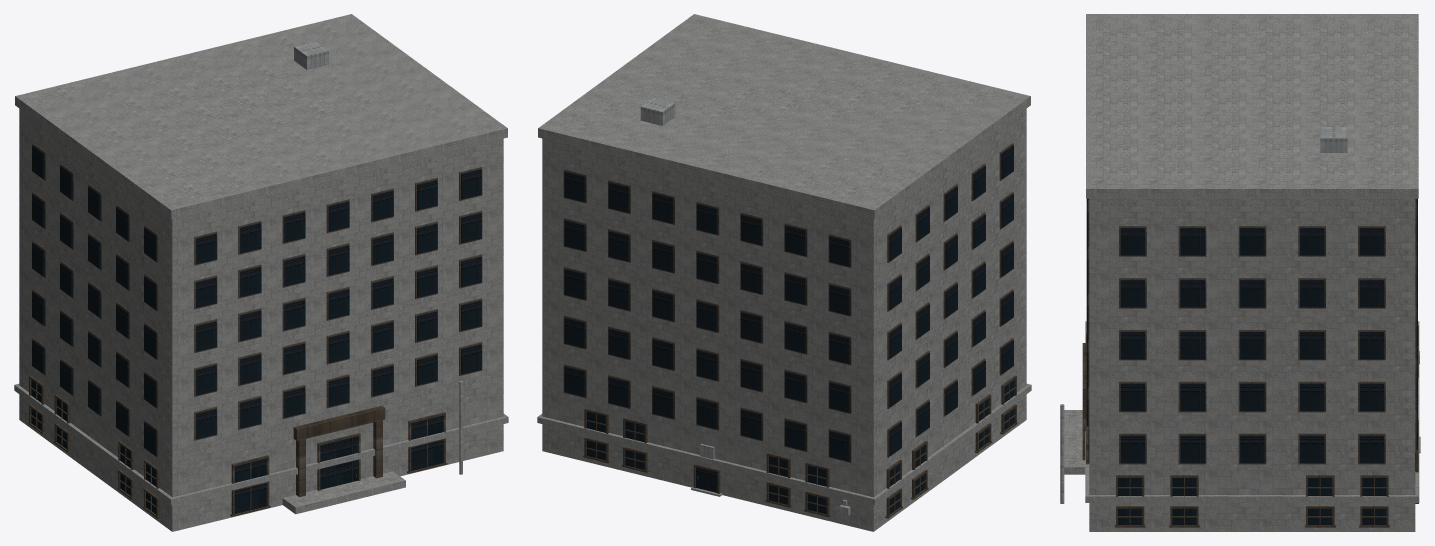
The model's file is ironport-savings-bank_lod0.gltf.
The picture shows the model from 3 angles, left to right: view 1: azimuth 30°, elevation 25°; view 2: azimuth 150°, elevation 25°; view 3: azimuth 270°, elevation 25°; orthographic projection. The views are drawn at different scales.
Visible parts, largest first — view 1: ironport-savings-bank_main, ironport-savings-bank__cornice, ironport-savings-bank_fen_07-glass-curtain-blue_1_t, ironport-savings-bank_fen_12-bronze-metal_0, ironport-savings-bank__trim_band, ironport-savings-bank__steps, ironport-savings-bank__surround_lintel, ironport-savings-bank__vent; view 2: ironport-savings-bank_main, ironport-savings-bank__cornice, ironport-savings-bank_fen_07-glass-curtain-blue_1_t, ironport-savings-bank_fen_12-bronze-metal_0, ironport-savings-bank__trim_band, ironport-savings-bank__vent; view 3: ironport-savings-bank_main, ironport-savings-bank_fen_07-glass-curtain-blue_1_t, ironport-savings-bank_fen_12-bronze-metal_0, ironport-savings-bank__cornice, ironport-savings-bank__trim_band, ironport-savings-bank__steps, ironport-savings-bank__vent, ironport-savings-bank__flag.
Part boxes in pixels (box(x1,y1,x2,y2)): ironport-savings-bank_main: box(19, 16, 503, 531); ironport-savings-bank__cornice: box(15, 14, 507, 219); ironport-savings-bank_fen_07-glass-curtain-blue_1_t: box(31, 145, 481, 514); ironport-savings-bank_fen_12-bronze-metal_0: box(28, 143, 482, 518); ironport-savings-bank__trim_band: box(14, 383, 508, 505); ironport-savings-bank__steps: box(282, 471, 405, 514); ironport-savings-bank__surround_lintel: box(293, 406, 385, 440); ironport-savings-bank__vent: box(294, 41, 328, 69); ironport-savings-bank_main: box(542, 16, 1026, 531); ironport-savings-bank__cornice: box(538, 14, 1030, 219); ironport-savings-bank_fen_07-glass-curtain-blue_1_t: box(564, 145, 1014, 514); ironport-savings-bank_fen_12-bronze-metal_0: box(563, 143, 1017, 518); ironport-savings-bank__trim_band: box(537, 383, 1031, 505); ironport-savings-bank__vent: box(640, 97, 675, 125); ironport-savings-bank_main: box(1089, 15, 1415, 531); ironport-savings-bank_fen_07-glass-curtain-blue_1_t: box(1086, 198, 1417, 525); ironport-savings-bank_fen_12-bronze-metal_0: box(1086, 198, 1418, 527); ironport-savings-bank__cornice: box(1086, 14, 1418, 198); ironport-savings-bank__trim_band: box(1085, 321, 1419, 502); ironport-savings-bank__steps: box(1064, 410, 1085, 474); ironport-savings-bank__vent: box(1320, 127, 1347, 152); ironport-savings-bank__flag: box(1060, 404, 1064, 503).
Bounding box in the file's own units: 30.6 × 29.2 × 26.55.
